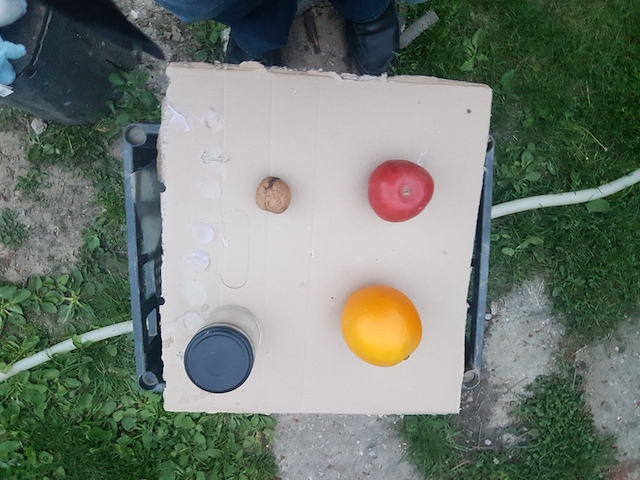apple: (367, 158, 436, 224)
nut: (254, 175, 292, 218)
orange: (336, 284, 424, 370)
recipient: (183, 324, 255, 397)
